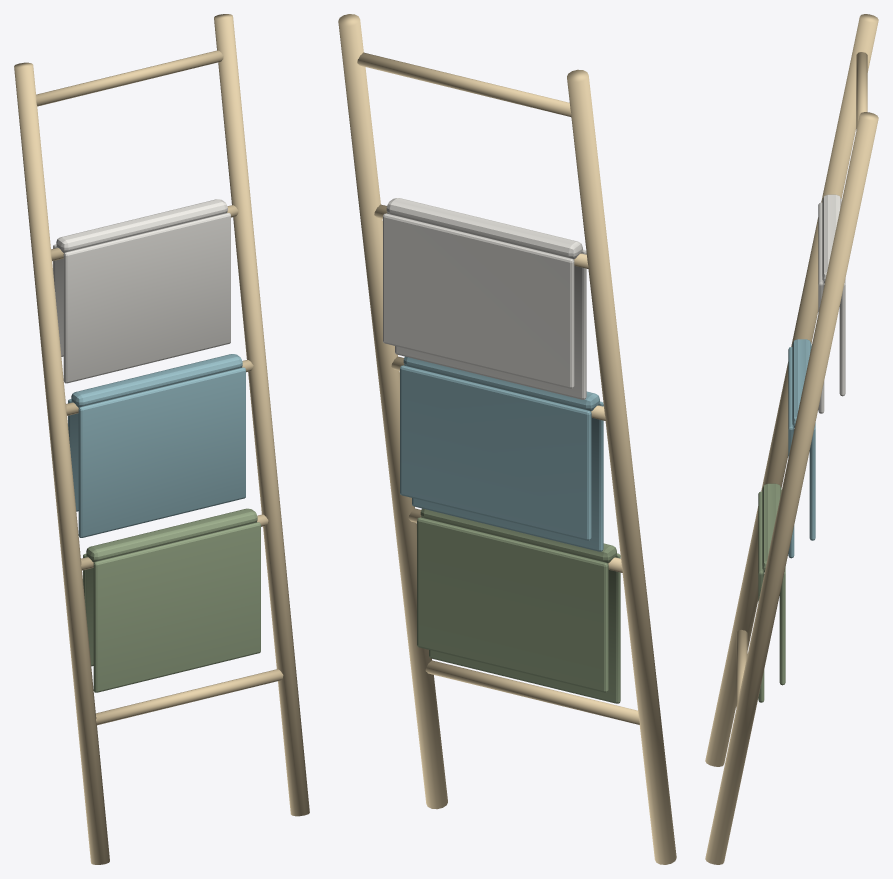
File: towelLadder.glb
3 views of the same model, side by side, from view 1: azimuth 30°, elevation 25°; view 2: azimuth 150°, elevation 25°; view 3: azimuth 270°, elevation 25° (orthographic). The views are drawn at different scales.
Parts seen in each view (by area): view 1: towelLadder; view 2: towelLadder; view 3: towelLadder.
Boxes of the visible parts, x1,y1,x2,y2 form: towelLadder: (14,14,309,864); towelLadder: (338,14,676,864); towelLadder: (705,14,878,864).
Bounding box in the file's own units: 0.52 × 1.71 × 0.3593.
